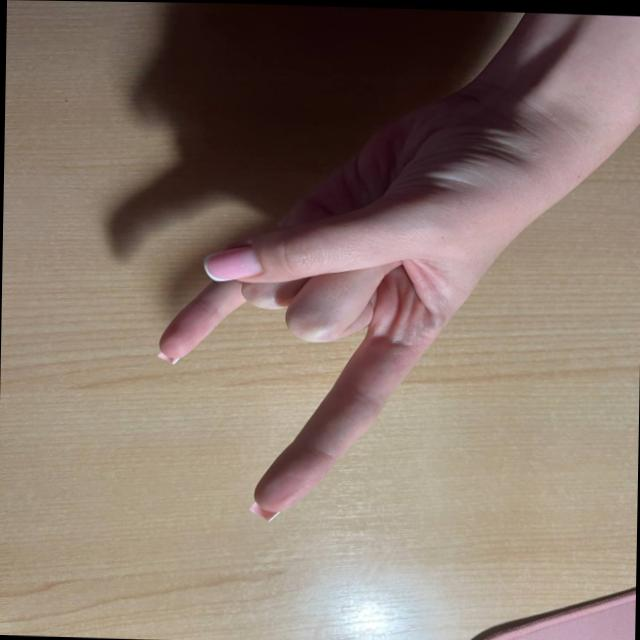y: (136, 157, 494, 522)
